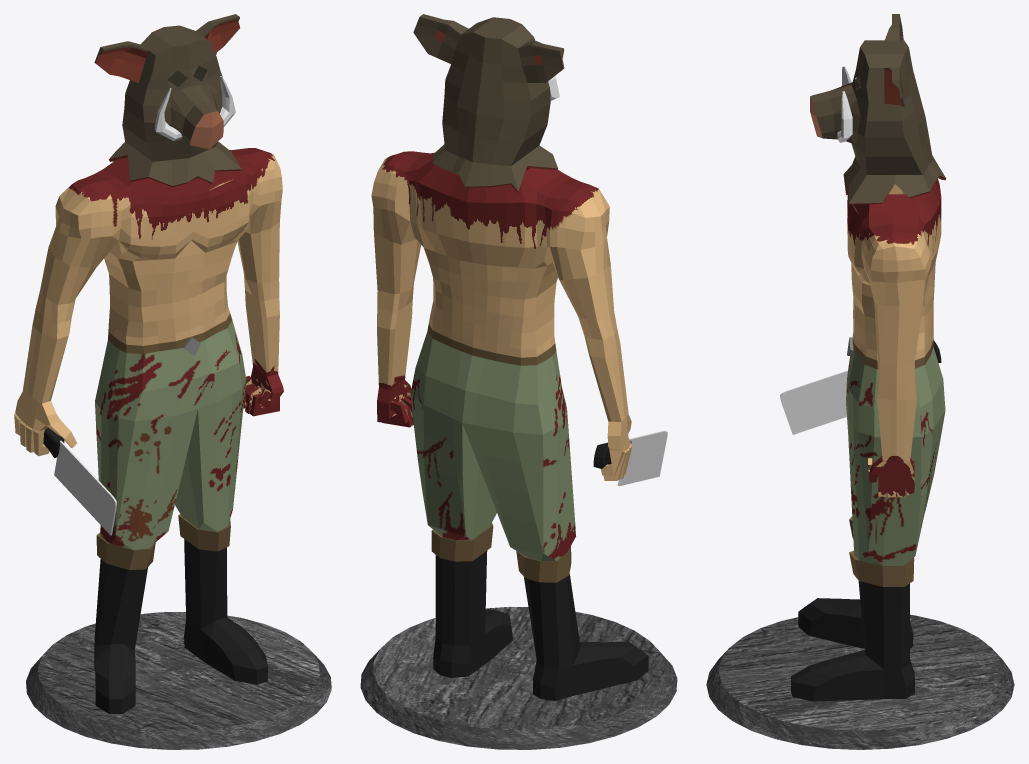
The model's file is bangaImpostorModelo.glb.
3 renders of one model, left to right at view 1: azimuth 30°, elevation 25°; view 2: azimuth 150°, elevation 25°; view 3: azimuth 270°, elevation 25°, orthographic. The views are drawn at different scales.
Parts seen in each view (by area): view 1: cerdoprueba2.001; view 2: cerdoprueba2.001; view 3: cerdoprueba2.001.
Part boxes in pixels (x1=…): cerdoprueba2.001: x1=14, y1=14, x2=331, y2=749; cerdoprueba2.001: x1=360, y1=14, x2=677, y2=749; cerdoprueba2.001: x1=706, y1=14, x2=1014, y2=749.
Size of the model in its own units: 0.869 by 2 by 0.869.
11 materials, 3 textured.
